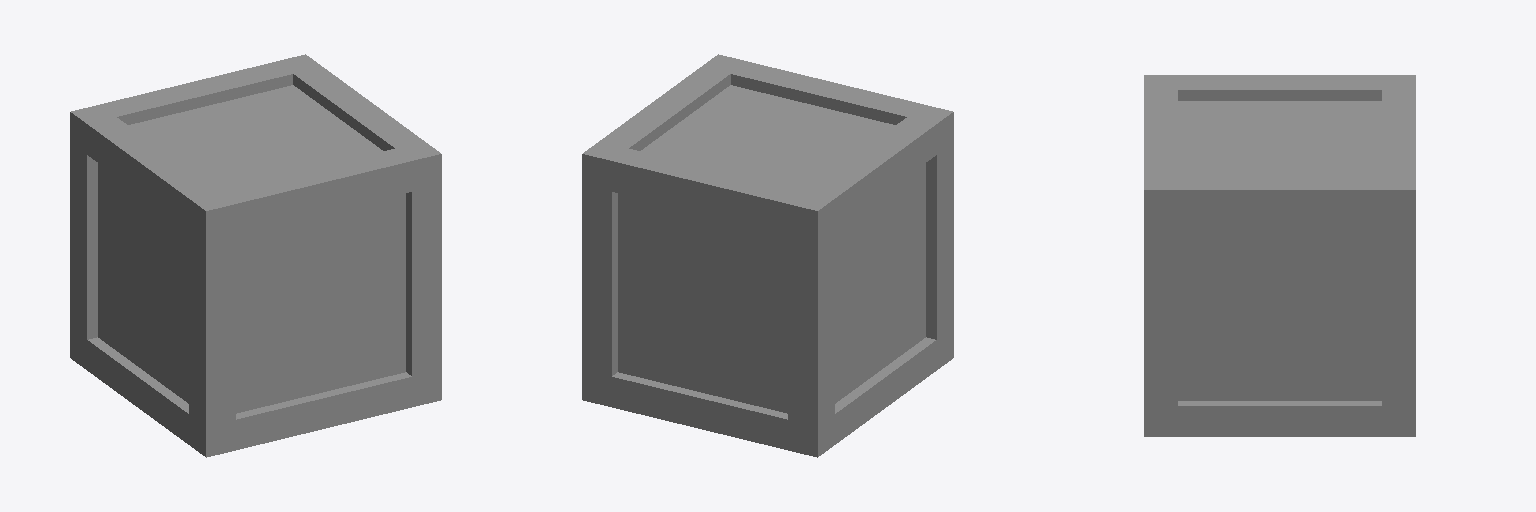
Rendered from wooden_box.obj.
3 renders of one model, left to right at view 1: azimuth 30°, elevation 25°; view 2: azimuth 150°, elevation 25°; view 3: azimuth 270°, elevation 25°, orthographic.
Visible parts, largest first — view 1: Cube_Mesh.001; view 2: Cube_Mesh.001; view 3: Cube_Mesh.001.
Part boxes in pixels (left/top/right/bottom): Cube_Mesh.001: left=70, top=54, right=441, bottom=457; Cube_Mesh.001: left=582, top=54, right=953, bottom=457; Cube_Mesh.001: left=1144, top=75, right=1415, bottom=436.
Size of the model in its own units: 5 by 5 by 5.